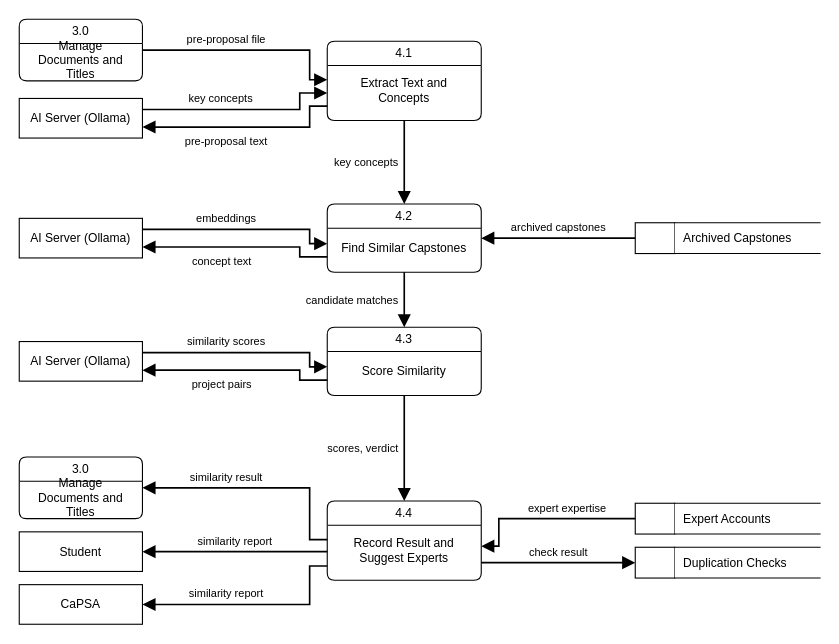
This 839x644 diagram has some shape labels left out. The centre of each missing label's shape, as x and y in pixels:
D2: [654,518]
D6: [654,562]
D7: [654,238]
